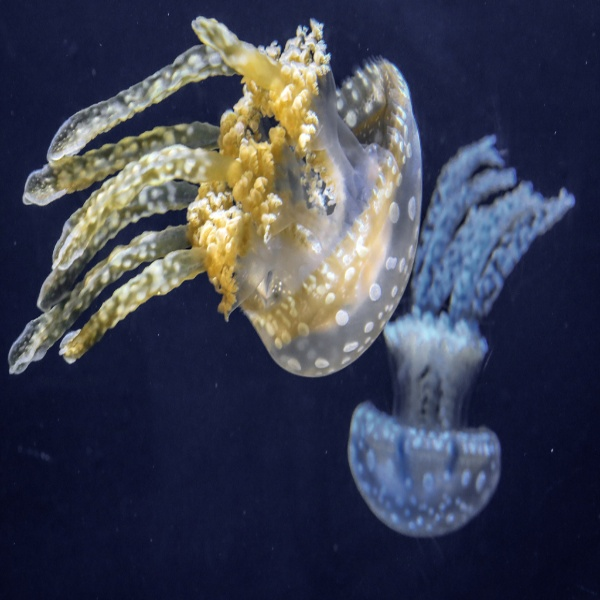Jellyfish: (6, 10, 422, 374), (346, 135, 575, 541)
